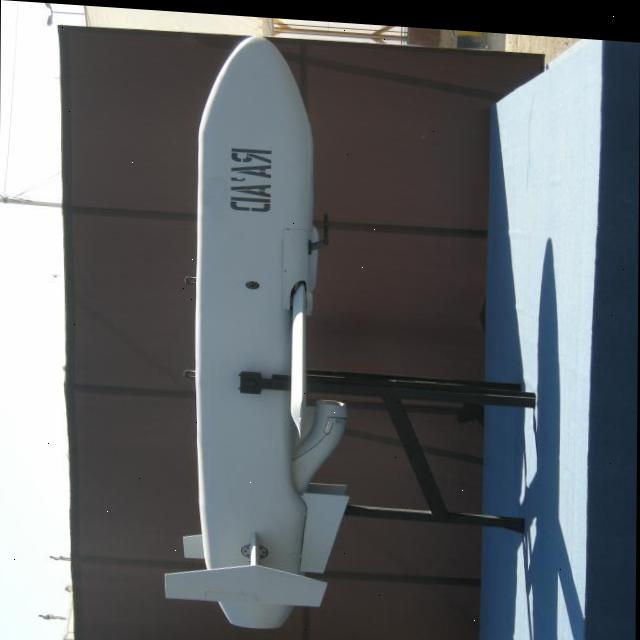missile: (161, 25, 355, 631)
